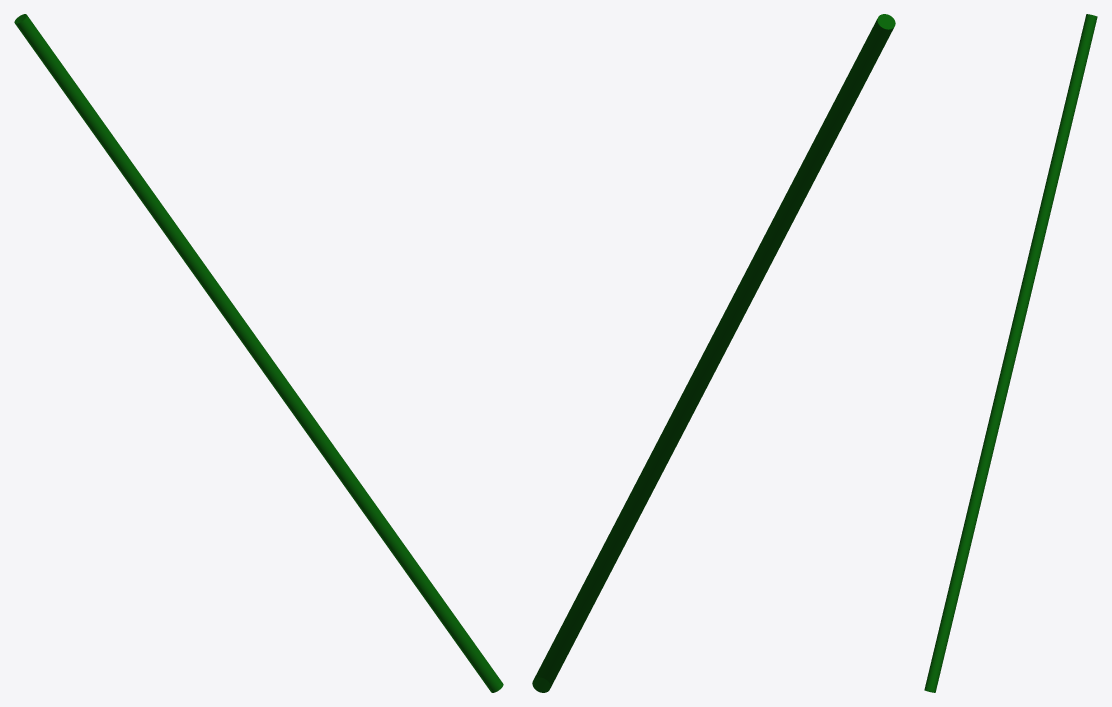
Rendered from Event_105588474_jet_1.fbx.
3 renders of one model, left to right at view 1: azimuth 30°, elevation 25°; view 2: azimuth 150°, elevation 25°; view 3: azimuth 270°, elevation 25°, orthographic. The views are drawn at different scales.
Parts seen in each view (by area): view 1: Model; view 2: Model; view 3: Model.
Part boxes in pixels (x1,y1,x2,y2): Model: (14, 14, 503, 692); Model: (532, 14, 895, 692); Model: (924, 14, 1097, 692).
Size of the model in its own units: 1.19 by 2.05 by 0.5953.
